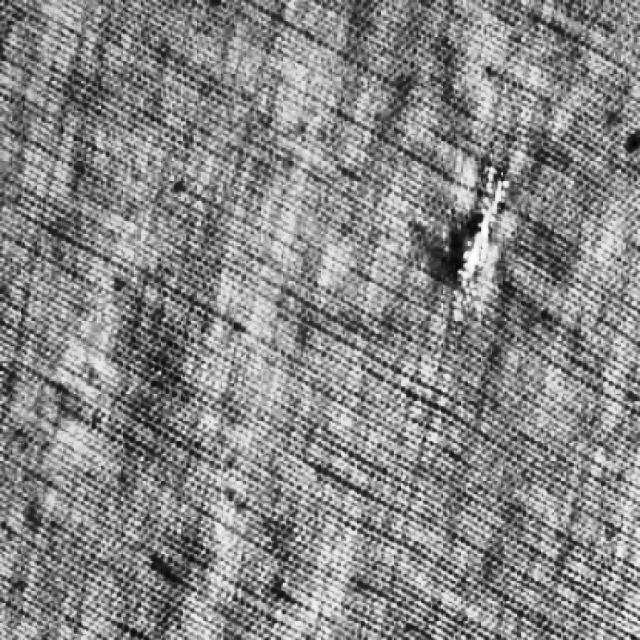hole: (441, 148, 517, 298)
